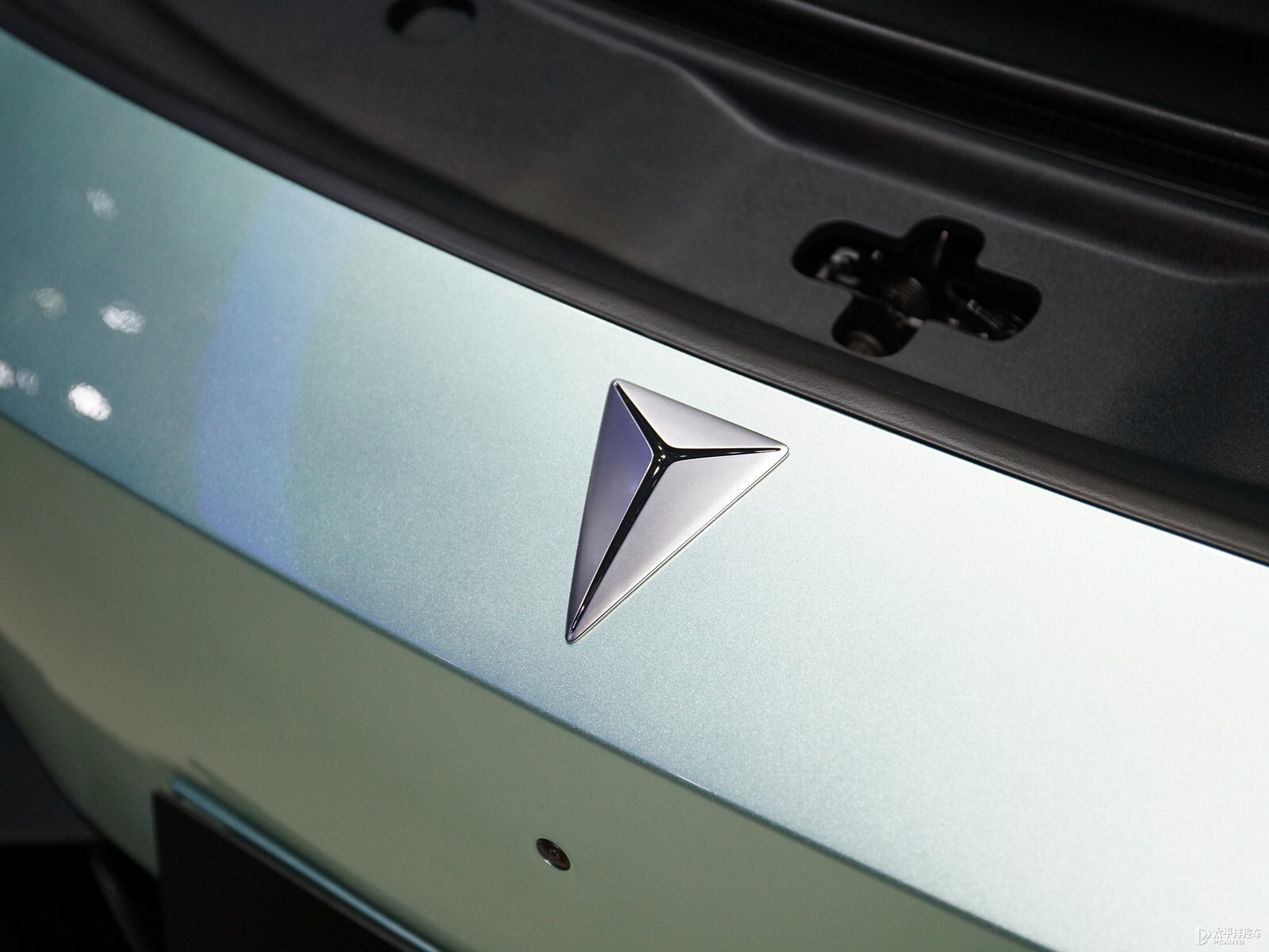Deepal: (565, 378, 788, 643)
